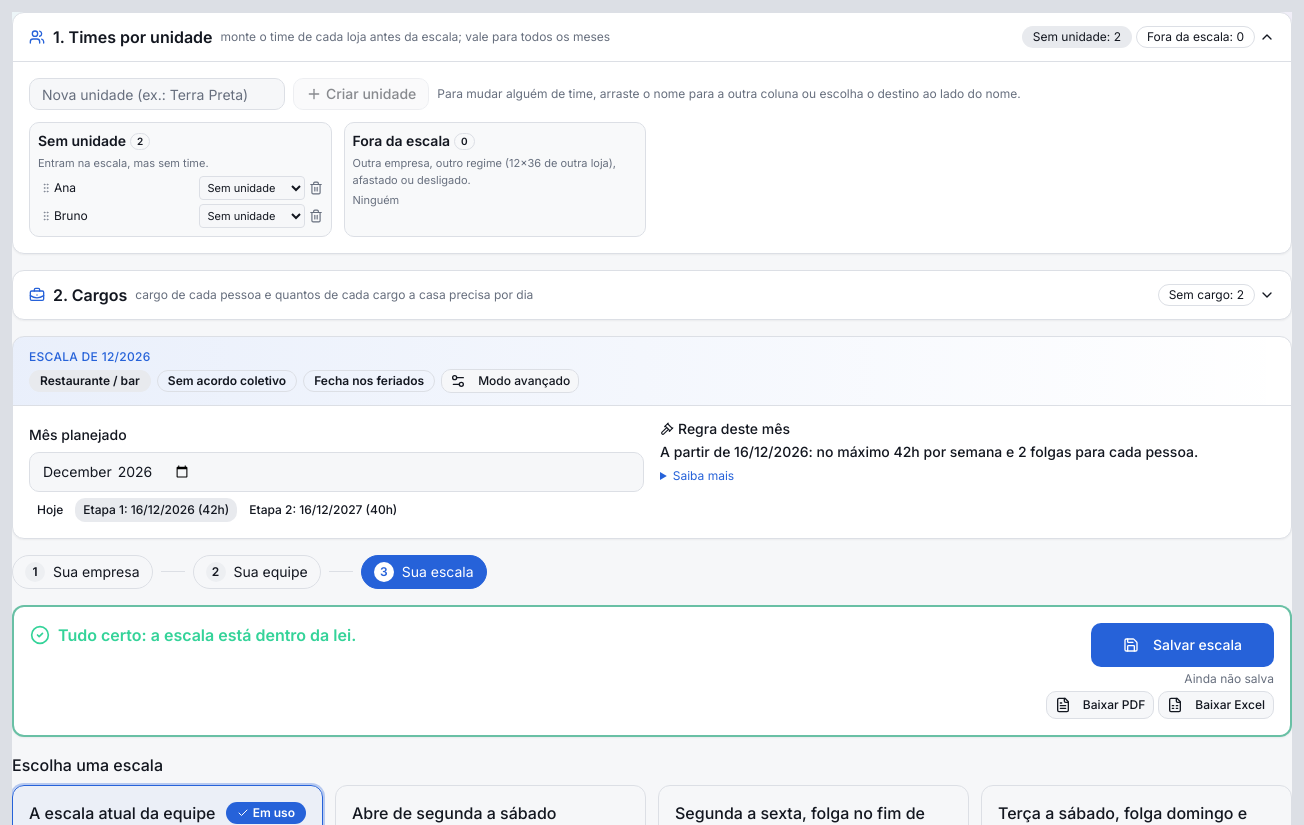
Test case: caminho guiado na tela › atividade marcada pelo escritório: abre na escala e o cliente só vê a empresa
The image size is (1304, 825).
Expected: the heading "Escolha uma escala" is shown, top-left (12, 754), bottom-right (163, 774)
Step 1. Click the button "1 Sua empresa" → coordinates (82, 572), box top-left (12, 554), bottom-right (152, 588)
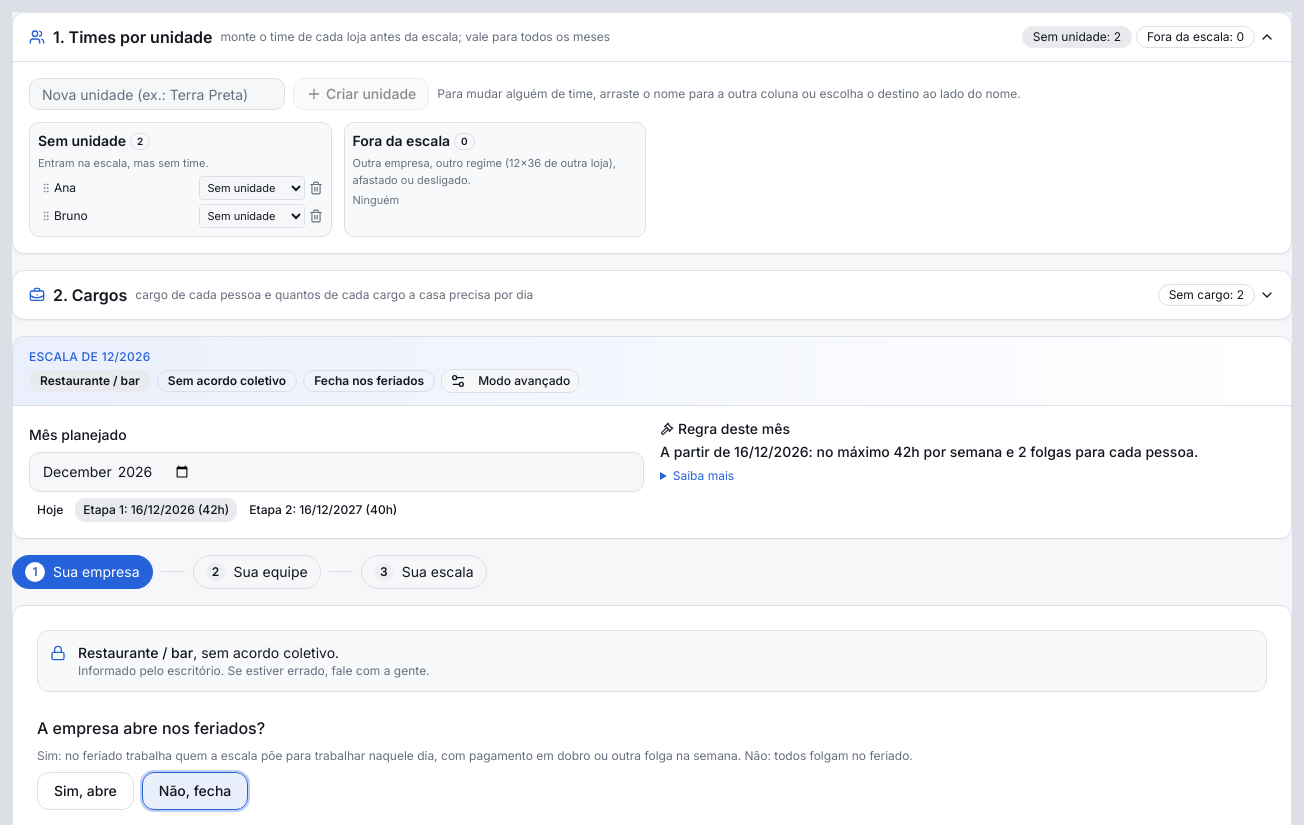
Now the text "Informado pelo escritório" is shown, box top-left (78, 662), bottom-right (430, 678)
